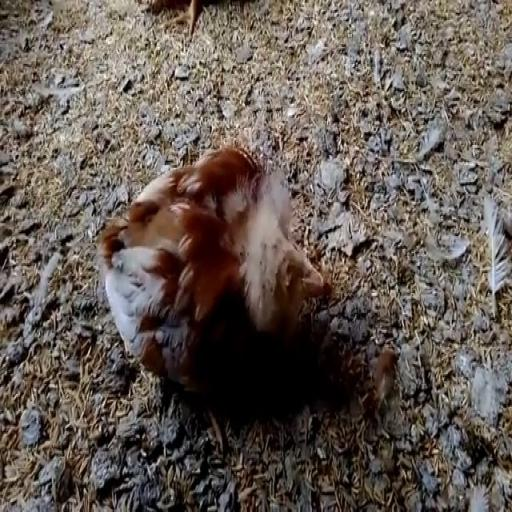disease: (262, 237, 304, 302)
